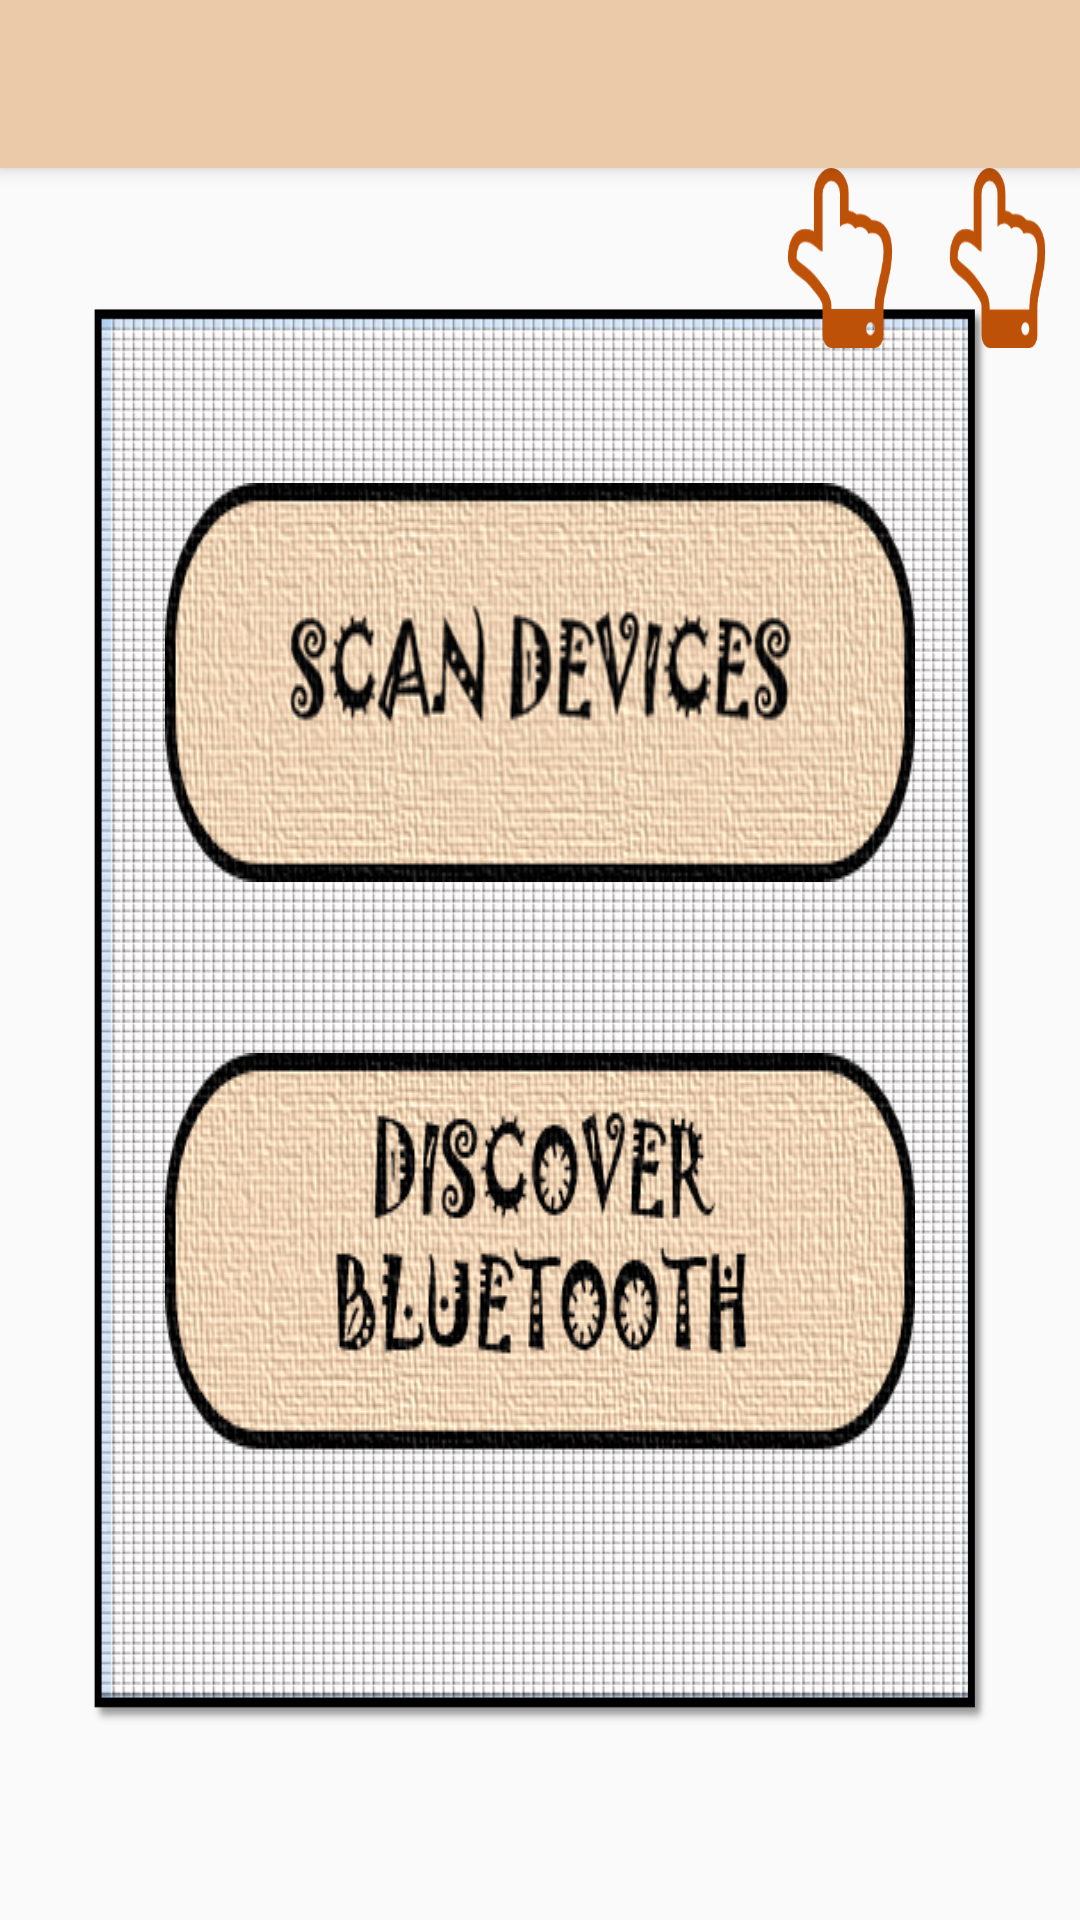

Icons on this 1080px×1920px Android screen, each with the point to tap as (x,y):
pointer: (840,258), (997,258)
